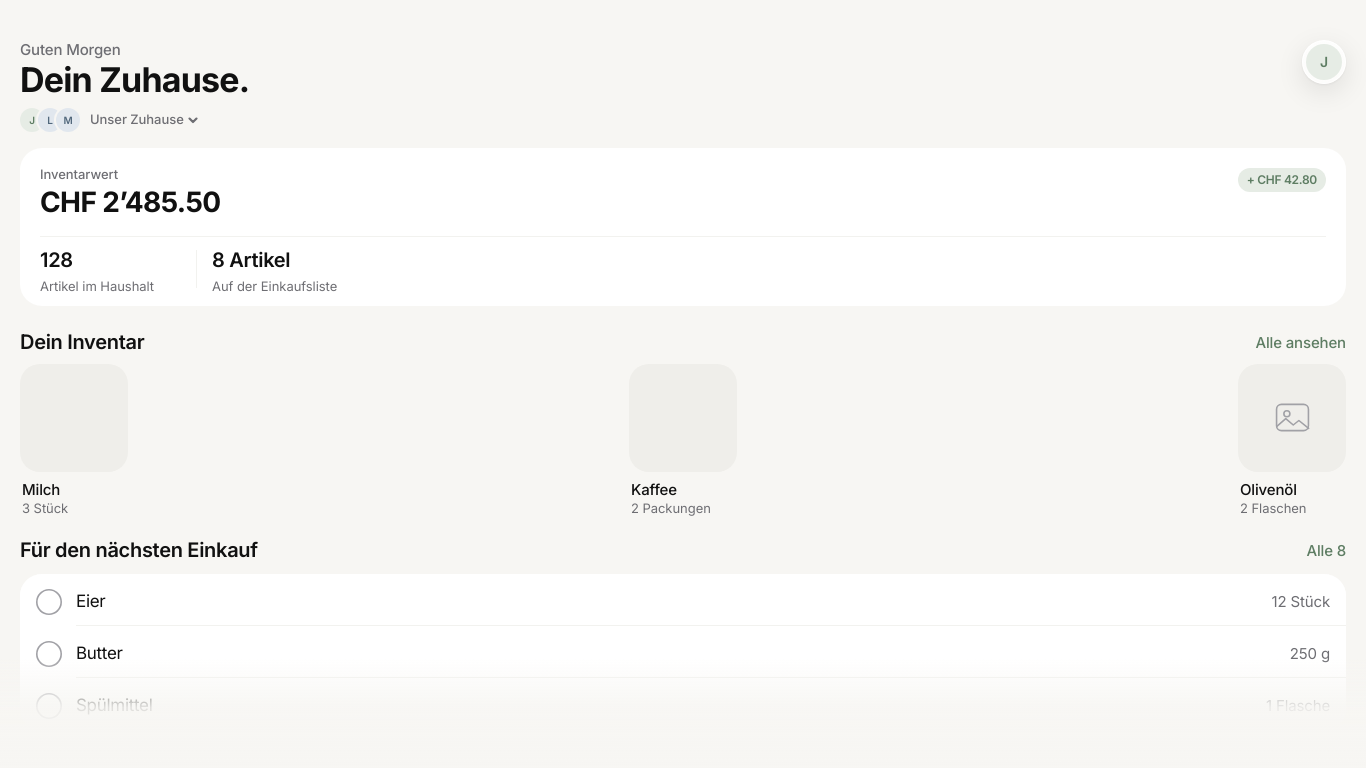
Test case: HomeScreen › completes a shopping item optimistically and rolls back on error
The width and height of the screenshot is (1366, 768).
What coordinates should you click on to do the following:
click the checkbox named "Eier, 12 Stück"
I would click on:
 (49, 602)
Its box is [36,589,62,615].
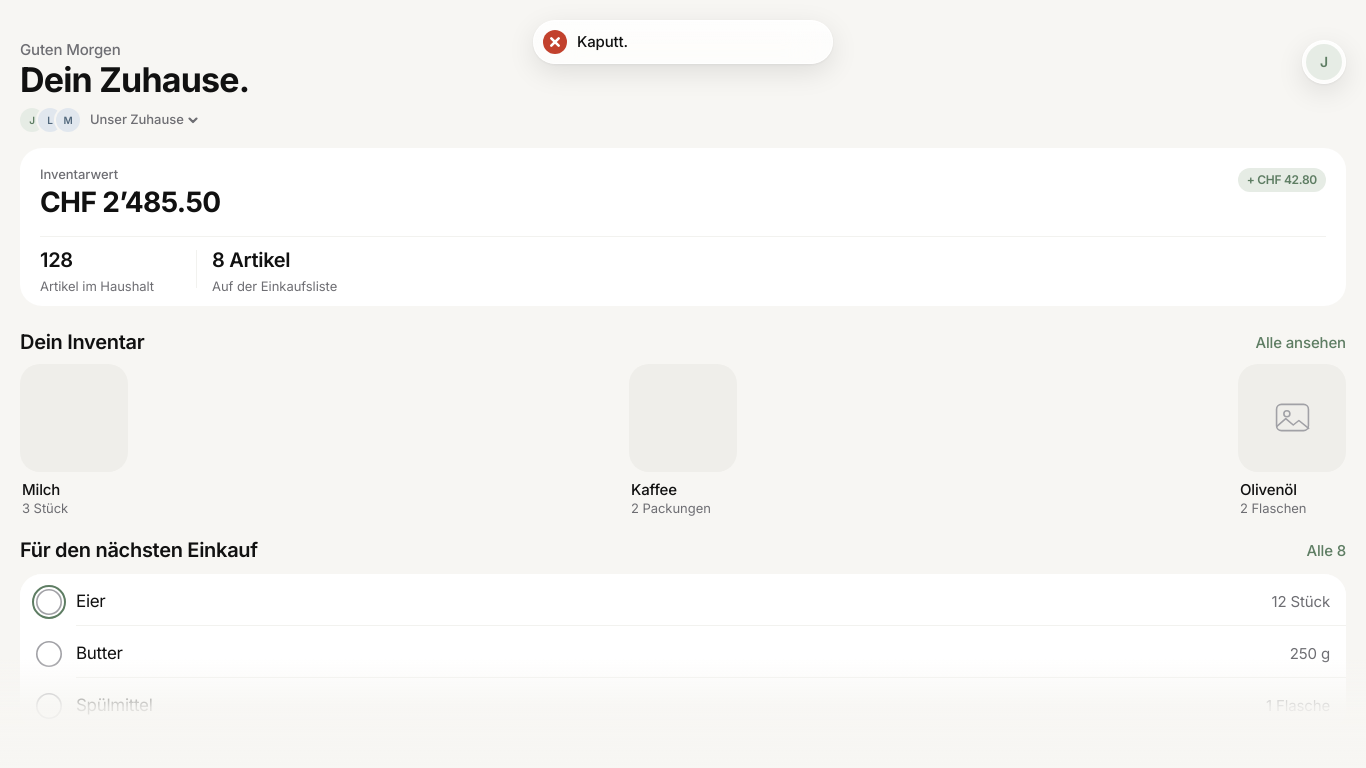
Check: the text "8 Artikel" is shown, box [212,248,290,272]
Check: the text "Kaputt." is shown, box [577,32,628,51]
